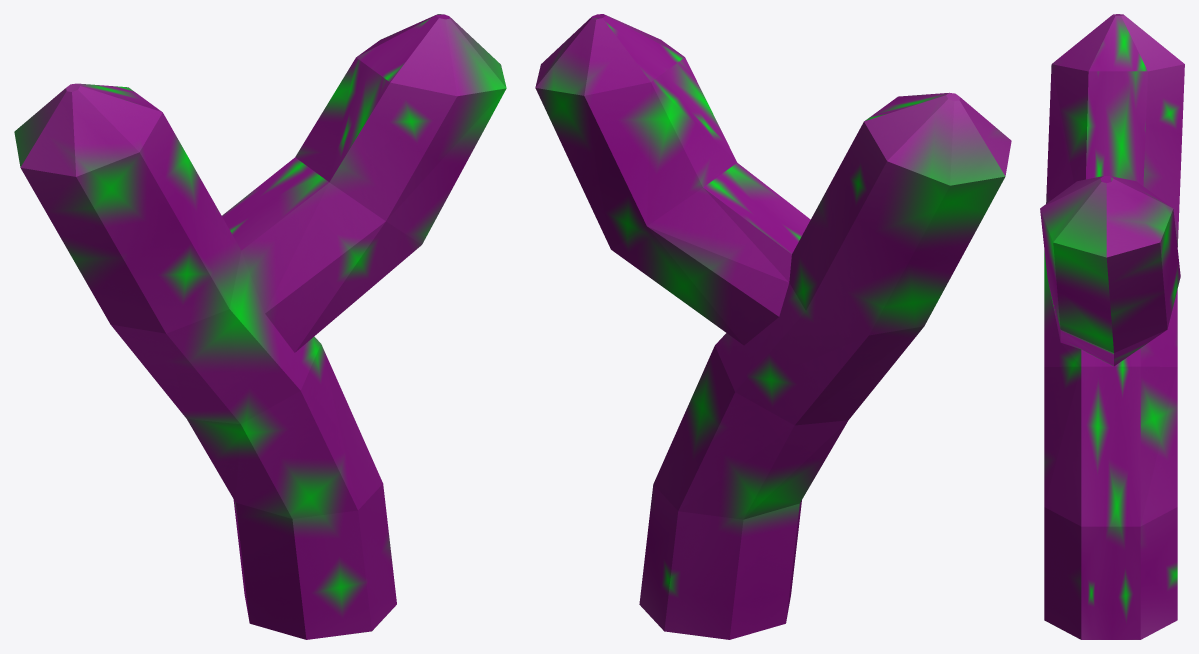
The model's file is Alien Cactus.fbx.
3 views of the same model, side by side, from view 1: azimuth 30°, elevation 25°; view 2: azimuth 150°, elevation 25°; view 3: azimuth 270°, elevation 25° (orthographic). The views are drawn at different scales.
Parts seen in each view (by area): view 1: Alien Cactus; view 2: Alien Cactus; view 3: Alien Cactus.
Boxes of the visible parts, x1=… form: Alien Cactus: x1=14, y1=14, x2=506, y2=639; Alien Cactus: x1=535, y1=14, x2=1011, y2=639; Alien Cactus: x1=1040, y1=14, x2=1184, y2=639.
Bounding box in the file's own units: 37.09 × 43.11 × 11.36.
